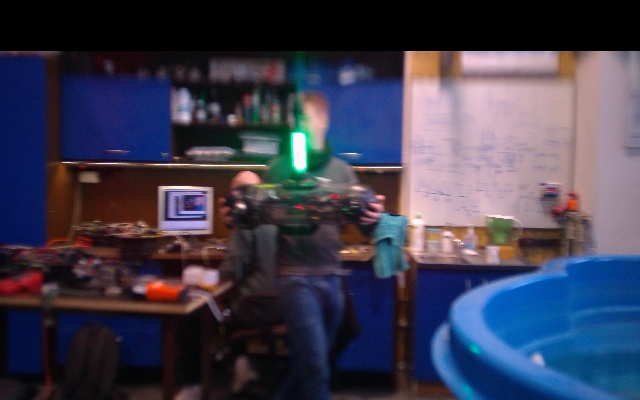green: (291, 132, 307, 178)
